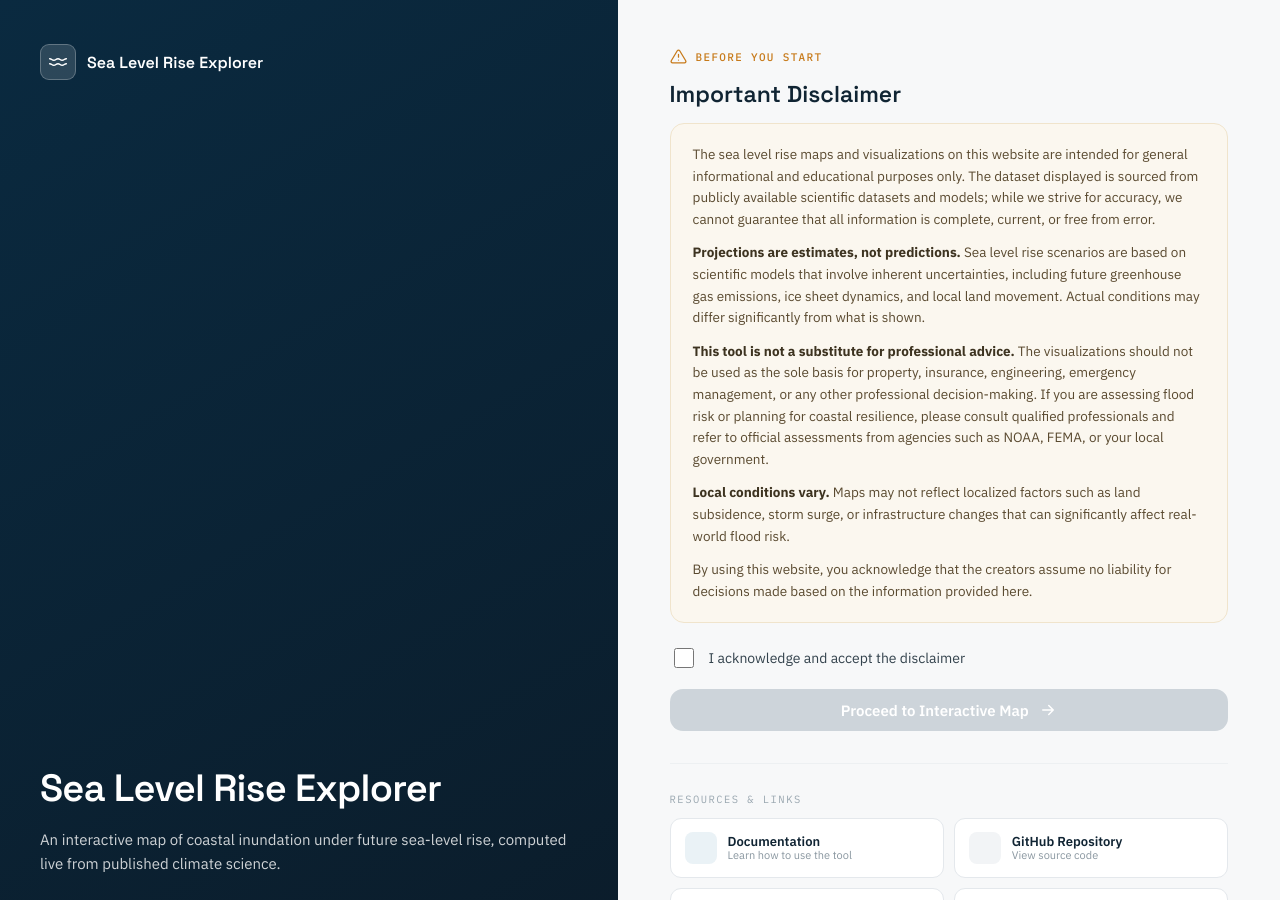
Test case: App › shows the control panel initially
What coordinates should you click on to do the following:
click the checkbox labelled "I acknowledge and accept the disclaimer"
I would click on:
 (684, 658)
Its box is [674,648,694,668].
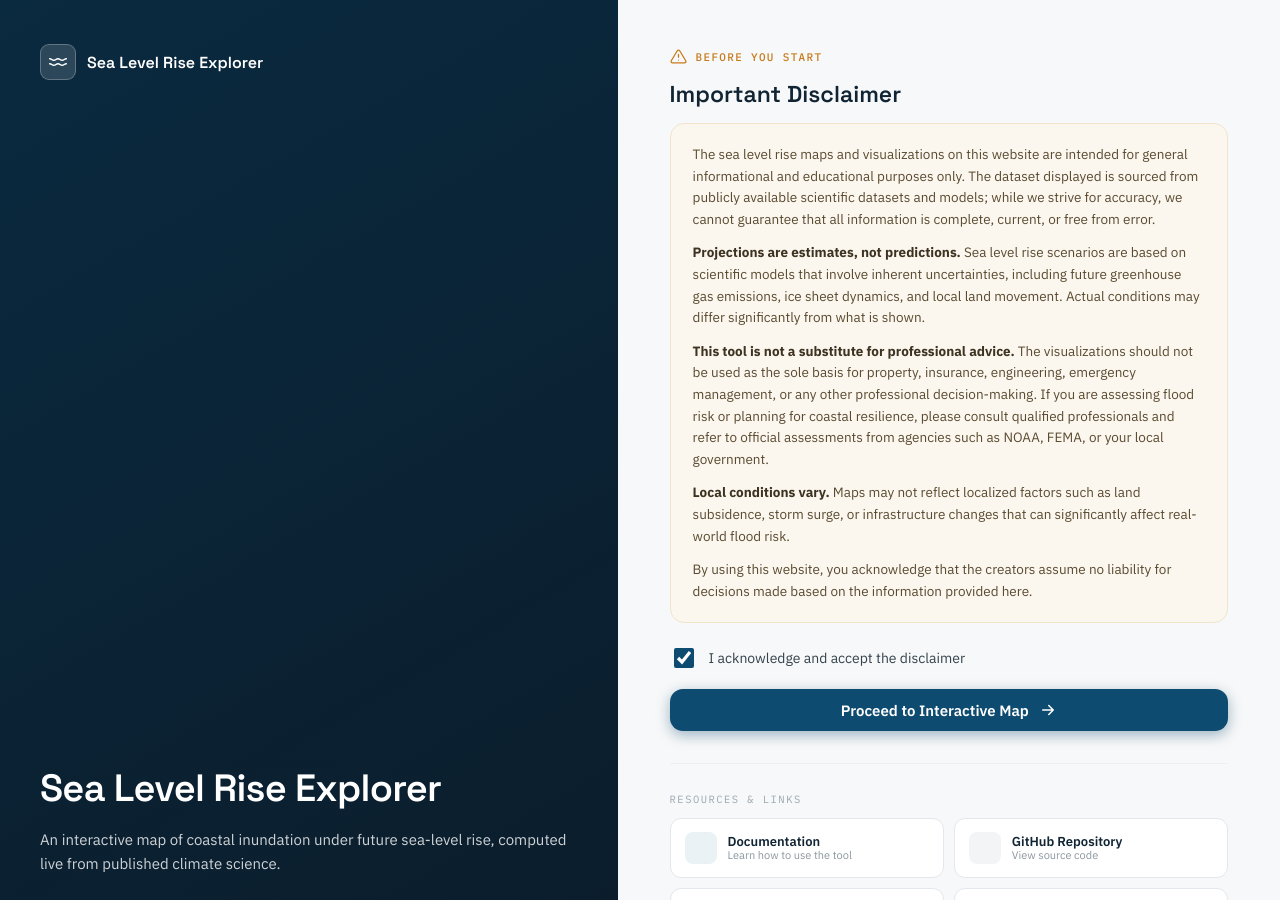
What coordinates should you click on to do the following:
click the button "Proceed to Interactive Map"
I would click on:
 (949, 710)
Its box is [670,689,1228,731].
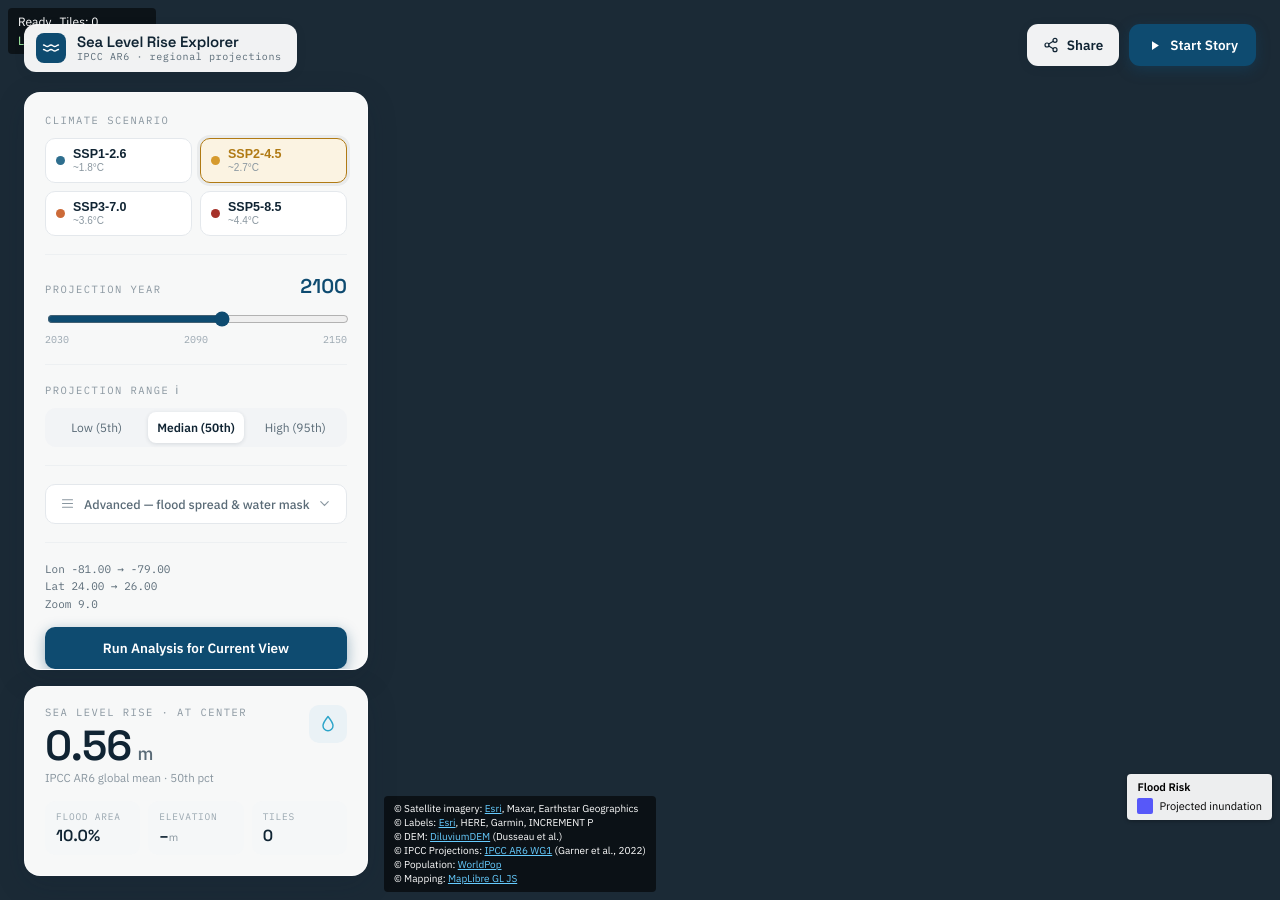
Expected: the text "Projection Year" is shown, [45,282,162,296]
